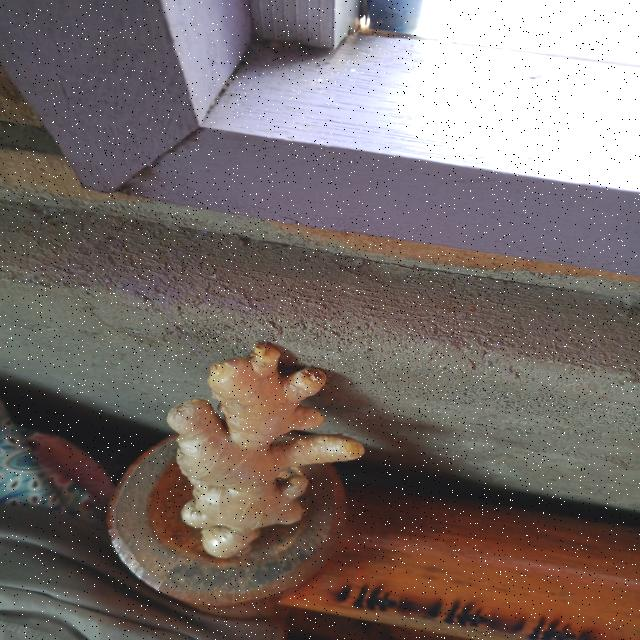ginger: (164, 326, 362, 562)
